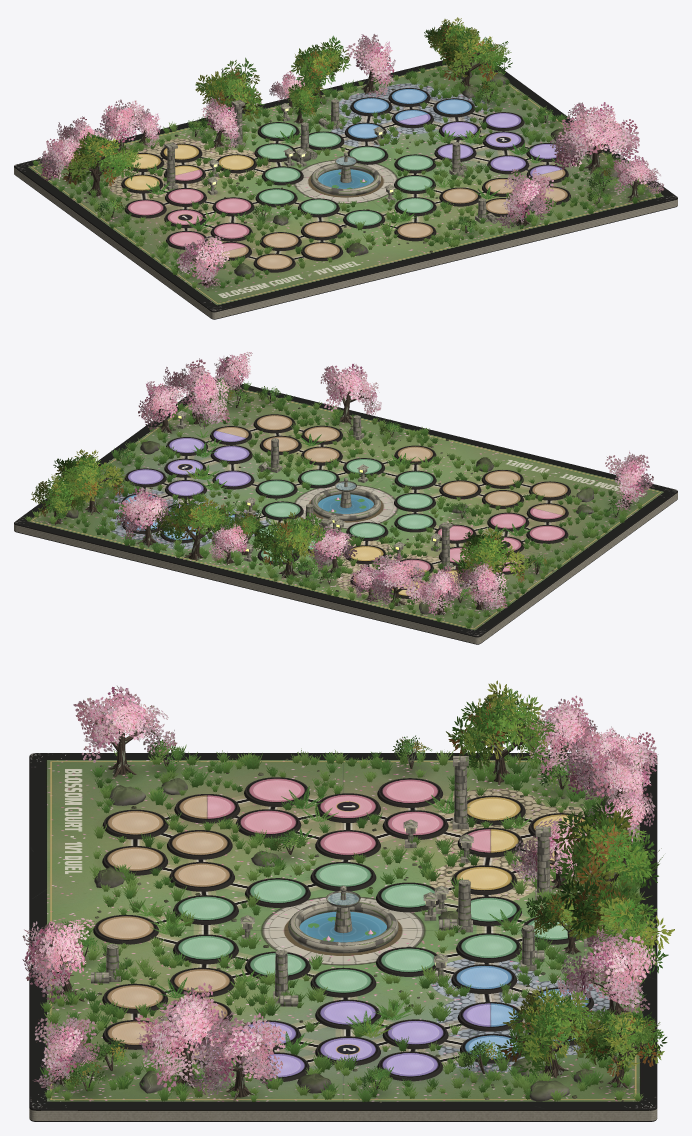
File: blossom.glb
3 views of the same model, one above another, from view 1: azimuth 30°, elevation 25°; view 2: azimuth 150°, elevation 25°; view 3: azimuth 270°, elevation 25° (orthographic). The views are drawn at different scales.
Visible parts, largest first — view 1: board (×34), scenery (×15); view 2: board (×27), scenery (×15); view 3: board (×38), scenery (×22).
Part boxes in pixels (x1=…): board (×34): x1=14, y1=60, x2=677, y2=319; scenery (×15): x1=32, y1=17, x2=663, y2=288; board (×27): x1=14, y1=377, x2=677, y2=644; scenery (×15): x1=24, y1=352, x2=654, y2=628; board (×38): x1=29, y1=753, x2=657, y2=1121; scenery (×22): x1=22, y1=680, x2=674, y2=1102.
Bounding box in the file's own units: 10.47 × 1.49 × 8.05.
Materials: 25 (19 with a texture image).
